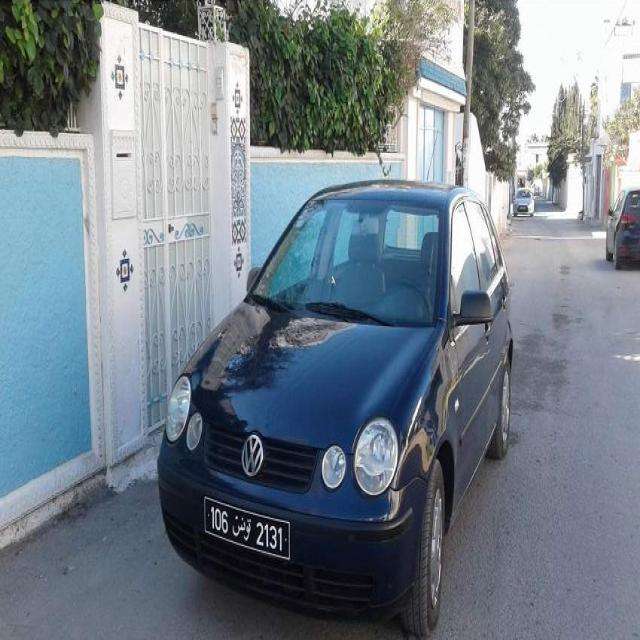licence plate: (204, 496, 290, 559)
